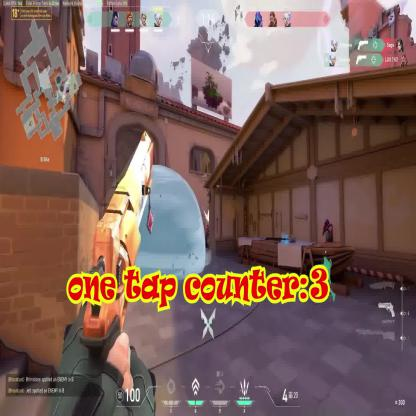enemy: (322, 218, 333, 264)
enemy_head: (326, 218, 330, 226)
